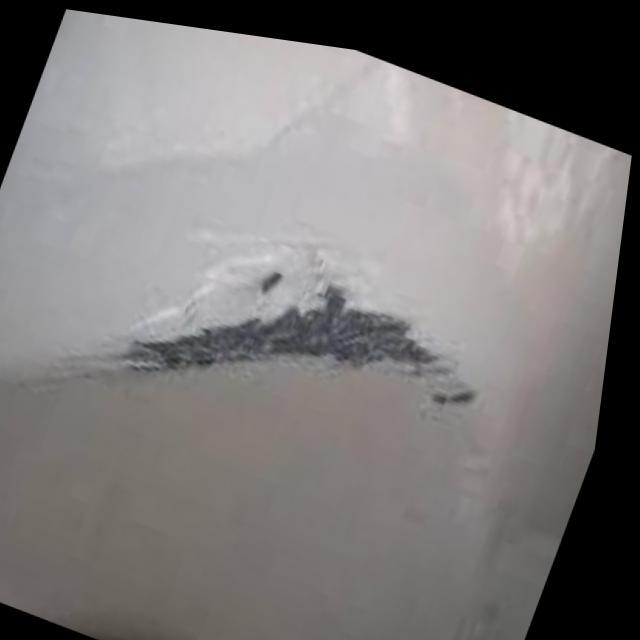rub: (138, 230, 485, 393)
